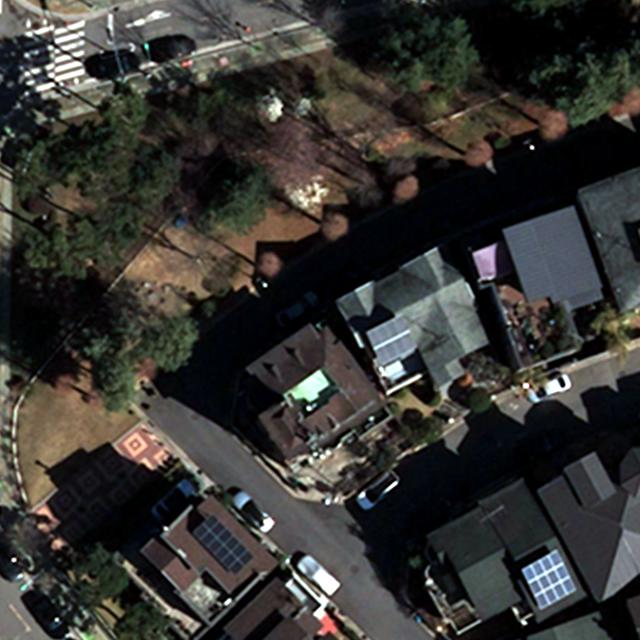panel: (518, 548, 582, 611), (193, 512, 255, 575), (365, 315, 418, 364)
